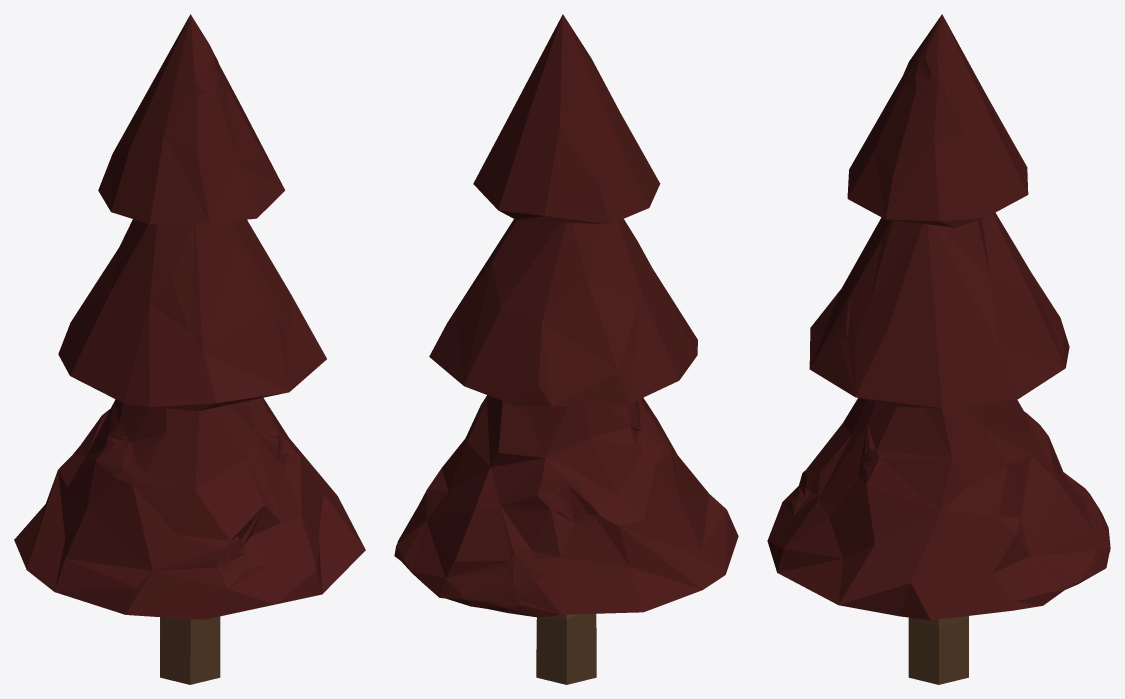
Rendered from Pine_Tree_Recolor.fbx.
3 renders of one model, left to right at view 1: azimuth 30°, elevation 25°; view 2: azimuth 150°, elevation 25°; view 3: azimuth 270°, elevation 25°, orthographic.
Parts seen in each view (by area): view 1: Tree_leaves1; view 2: Tree_leaves1; view 3: Tree_leaves1.
Boxes of the visible parts, x1,y1,x2,y2 form: Tree_leaves1: (14,14,365,684); Tree_leaves1: (394,14,738,684); Tree_leaves1: (767,14,1110,684).
Bounding box in the file's own units: 927 × 1938 × 917.
